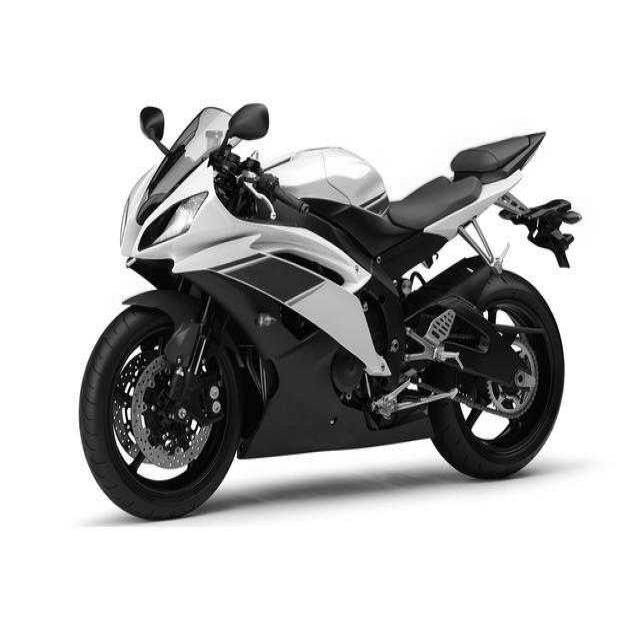Motorcycle: (80, 104, 579, 518)
